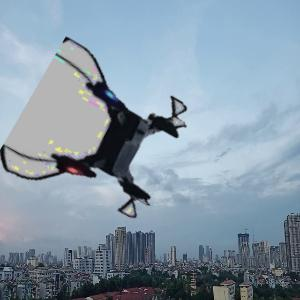drone: (22, 56, 184, 218)
